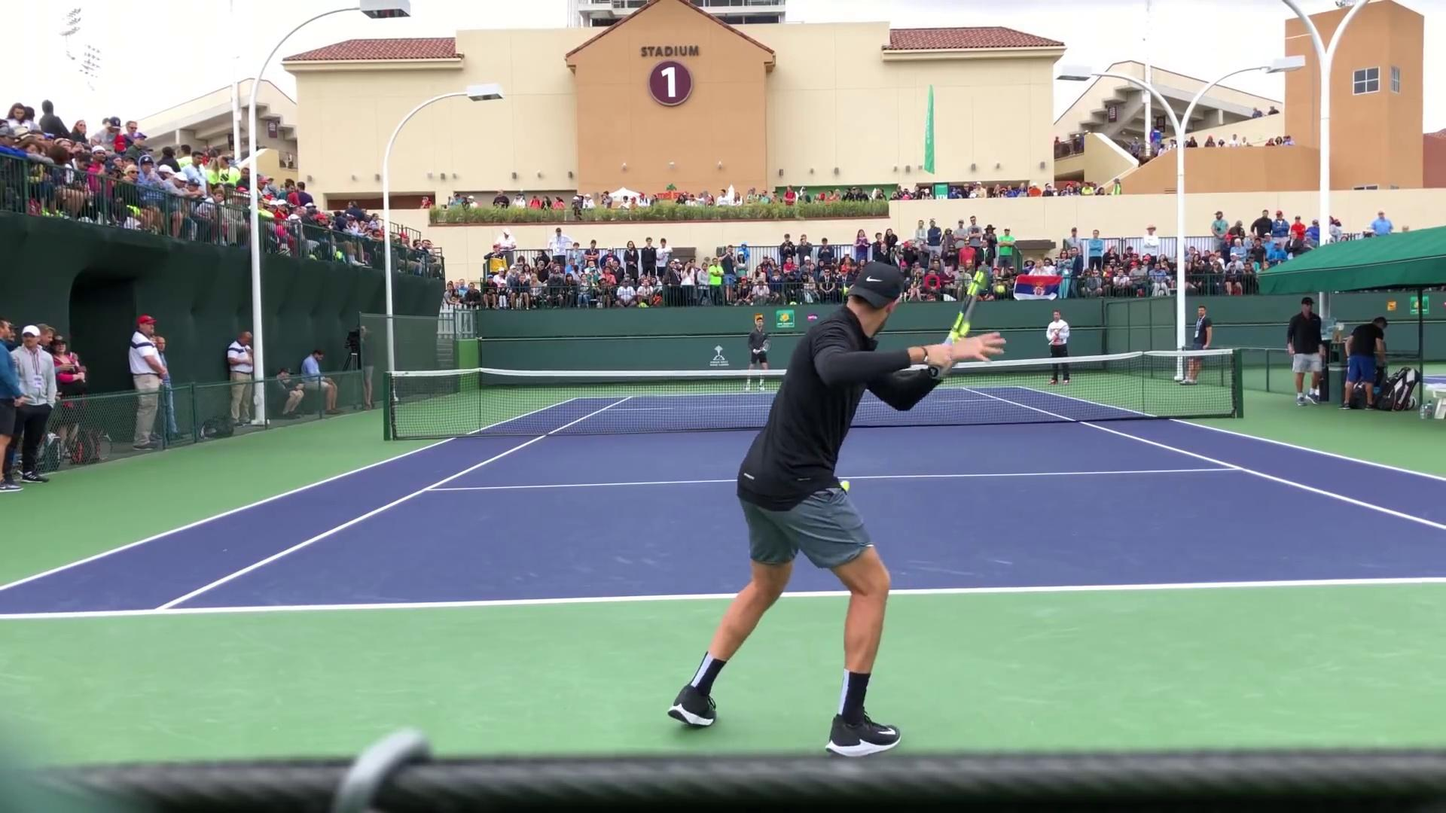ball: (836, 477, 853, 493)
